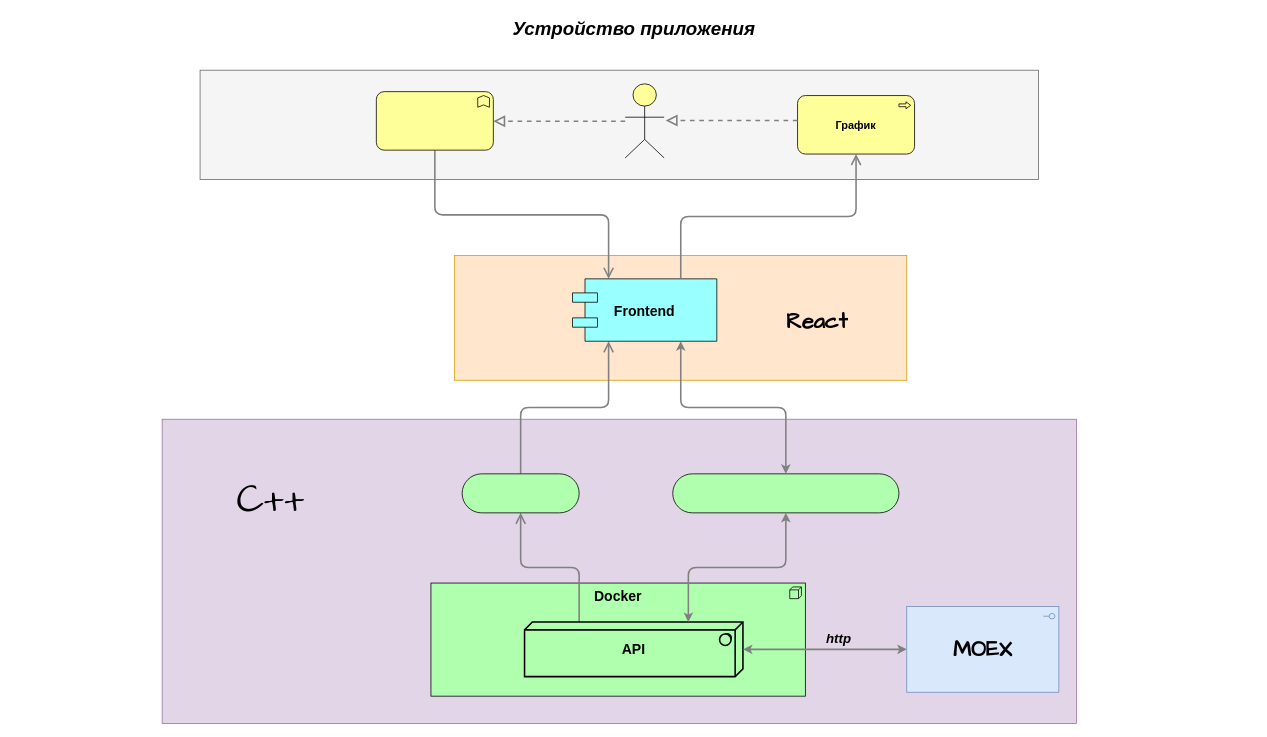
This 1267x737 diagram has some shape labels left out. Here are the shapes that lost their labels. From the top down, the centre of each, then its label:
the point at 434,120: Выбранные акции и их количество
the point at 520,493: /api/companies
the point at 785,493: /api/companies/shares
